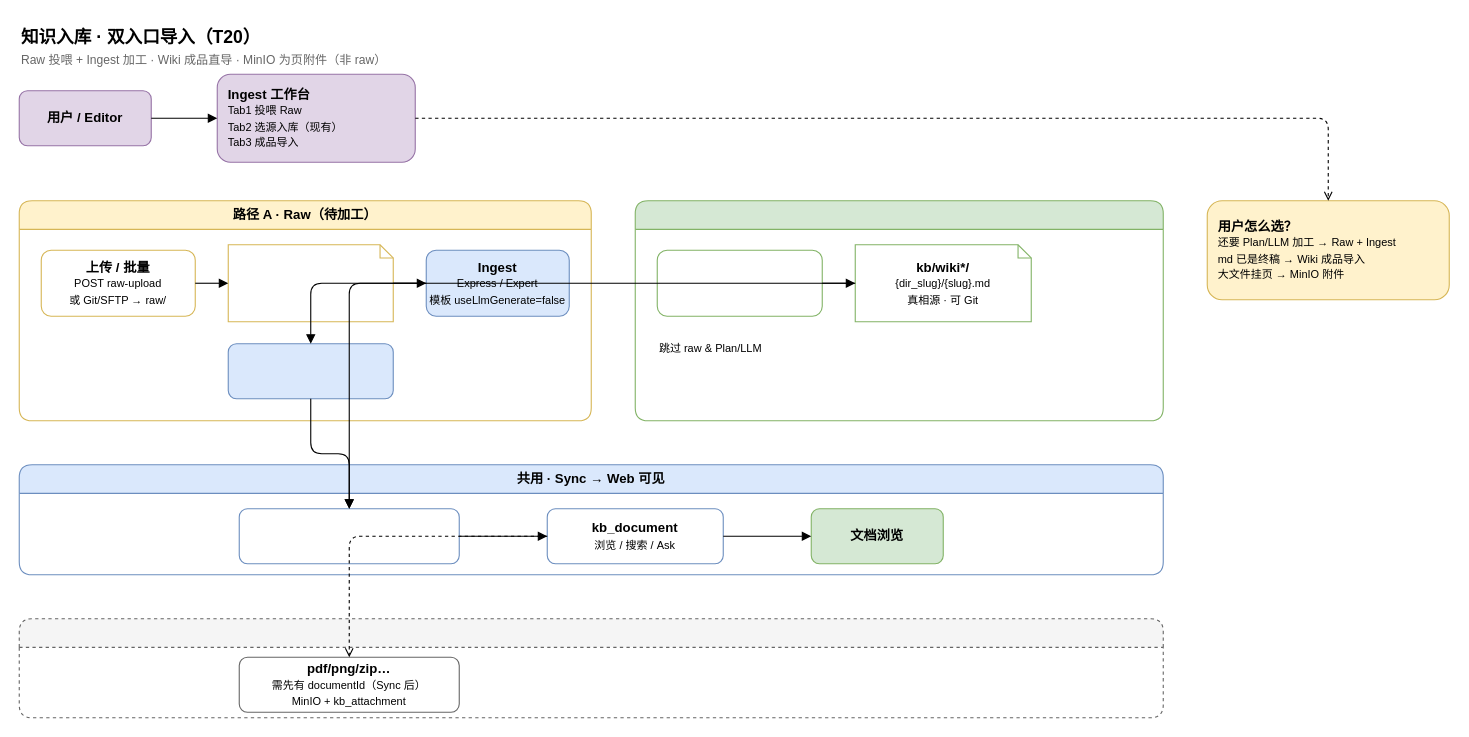
Image size: 1469x737. Some labels were removed from this diagram. The box of each missing label's shape, as (x1, y1, x2, y2) in pixels:
commit 写 wiki + index/log/edges: (227, 343, 393, 399)
kb/raw/{prefix}/ 只读投喂池 Agent 不改写: (227, 244, 393, 322)
POST /kb/sync/trigger sync_to_db · source=kb: (238, 508, 459, 564)
上传 .md 选空间+分类+slug wiki-import / PUT page: (656, 249, 822, 316)
旁路 · Wiki 页附件（非 raw / 非正文导入）: (18, 618, 1163, 718)
路径 B · Wiki 成品（已出稿）: (634, 200, 1163, 421)
